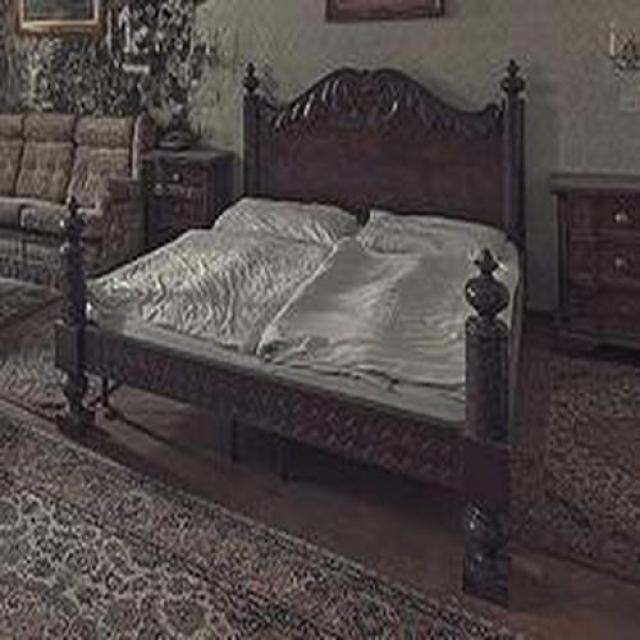bed: (54, 63, 524, 608)
